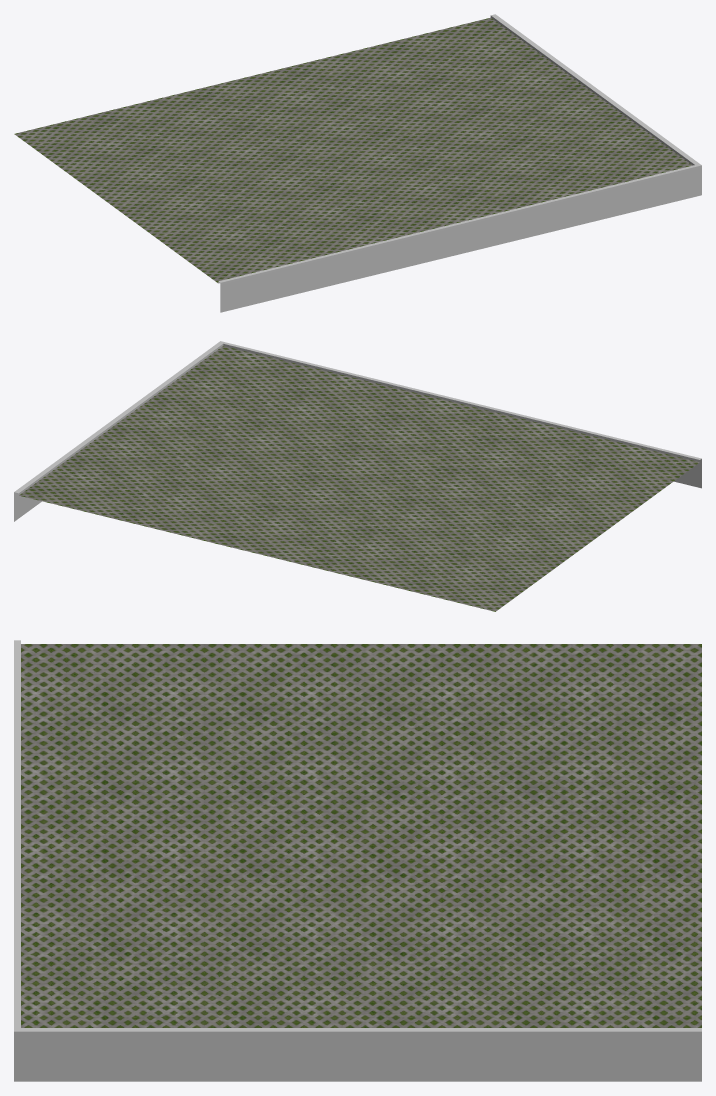
The model's file is polana.fbx.
3 renders of one model, top to bottom at view 1: azimuth 30°, elevation 25°; view 2: azimuth 150°, elevation 25°; view 3: azimuth 270°, elevation 25°, orthographic. The views are drawn at different scales.
Parts seen in each view (by area): view 1: Cube; view 2: Cube; view 3: Cube.
Part boxes in pixels (bbox=[...]): Cube: bbox=[14, 14, 701, 312]; Cube: bbox=[14, 341, 701, 611]; Cube: bbox=[14, 640, 701, 1081].
Bounding box in the file's own units: 10100 × 600 × 7500.
